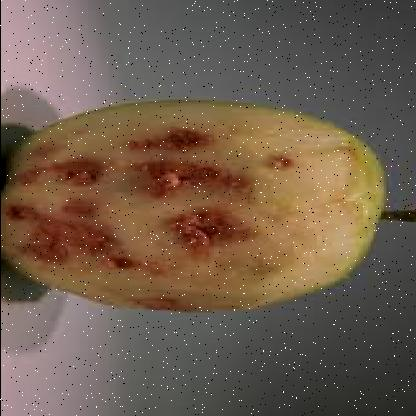damaged_apple: (3, 96, 385, 316)
